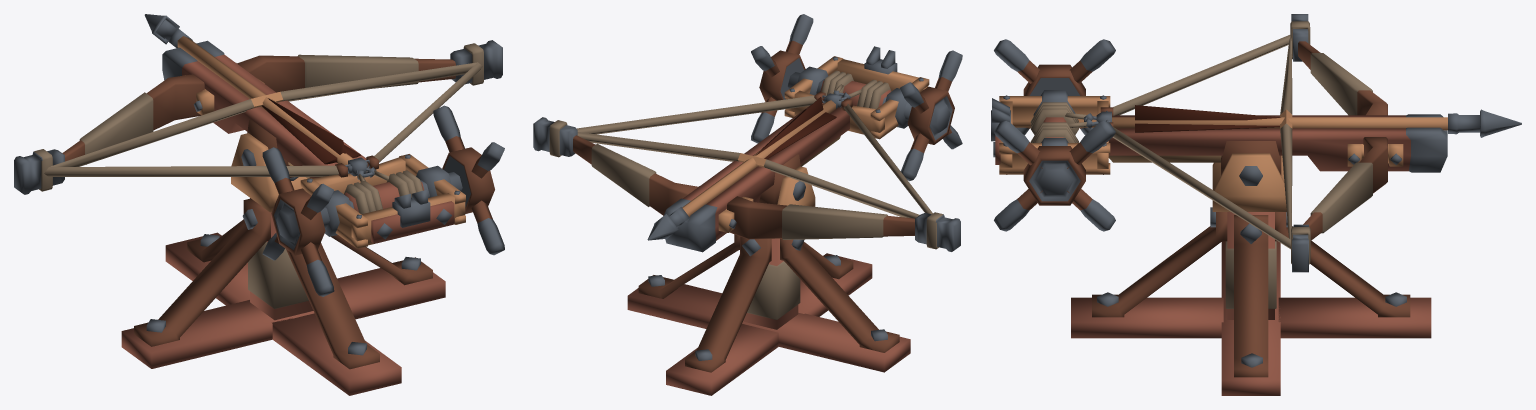
Rendered from balista.fbx.
3 views of the same model, side by side, from view 1: azimuth 30°, elevation 25°; view 2: azimuth 150°, elevation 25°; view 3: azimuth 270°, elevation 25° (orthographic). The views are drawn at different scales.
Parts seen in each view (by area): view 1: balista, base, was_shot, arrow, ready; view 2: balista, base, arrow, was_shot, ready; view 3: balista, base, arrow, ready, was_shot.
Boxes of the visible parts, bbox=[...] form: balista: bbox=[14, 40, 504, 296]; base: bbox=[121, 177, 445, 395]; was_shot: bbox=[50, 62, 477, 166]; arrow: bbox=[144, 14, 360, 165]; ready: bbox=[44, 62, 482, 176]; balista: bbox=[533, 14, 962, 252]; base: bbox=[627, 234, 910, 395]; arrow: bbox=[647, 97, 836, 240]; was_shot: bbox=[577, 132, 919, 218]; ready: bbox=[576, 95, 932, 214]; balista: bbox=[991, 14, 1447, 272]; base: bbox=[1071, 207, 1431, 395]; arrow: bbox=[1112, 105, 1521, 137]; ready: bbox=[1112, 34, 1290, 249]; was_shot: bbox=[1280, 36, 1292, 239].
Size of the model in its own units: 610 by 594 by 304.
